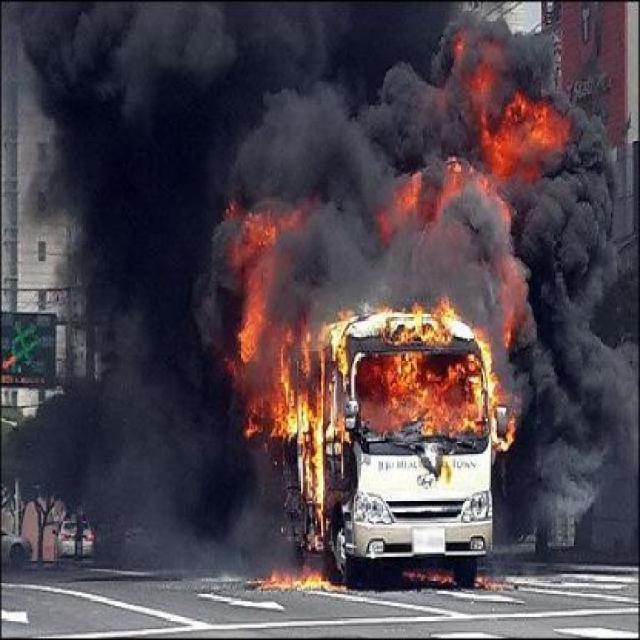Fire: (208, 195, 588, 595)
Smoke: (0, 15, 320, 391)
